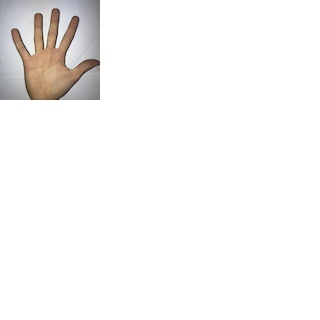paper: (9, 4, 100, 99)
